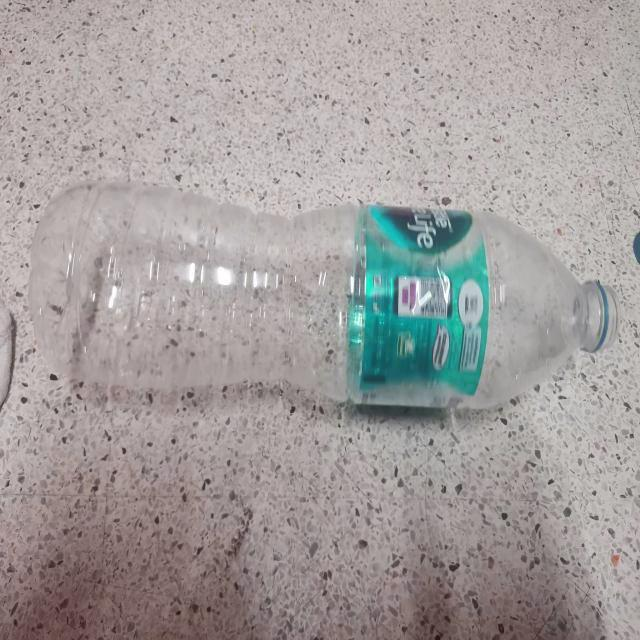bottle: (28, 181, 620, 409)
